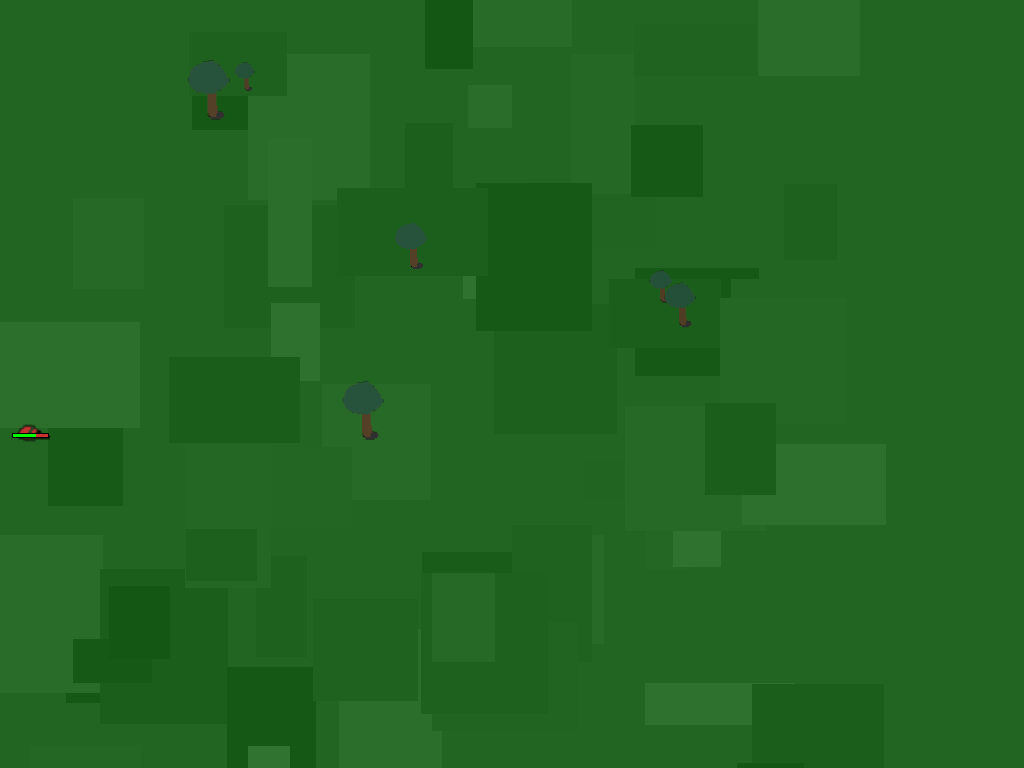Sniper: (9, 411, 51, 453)
